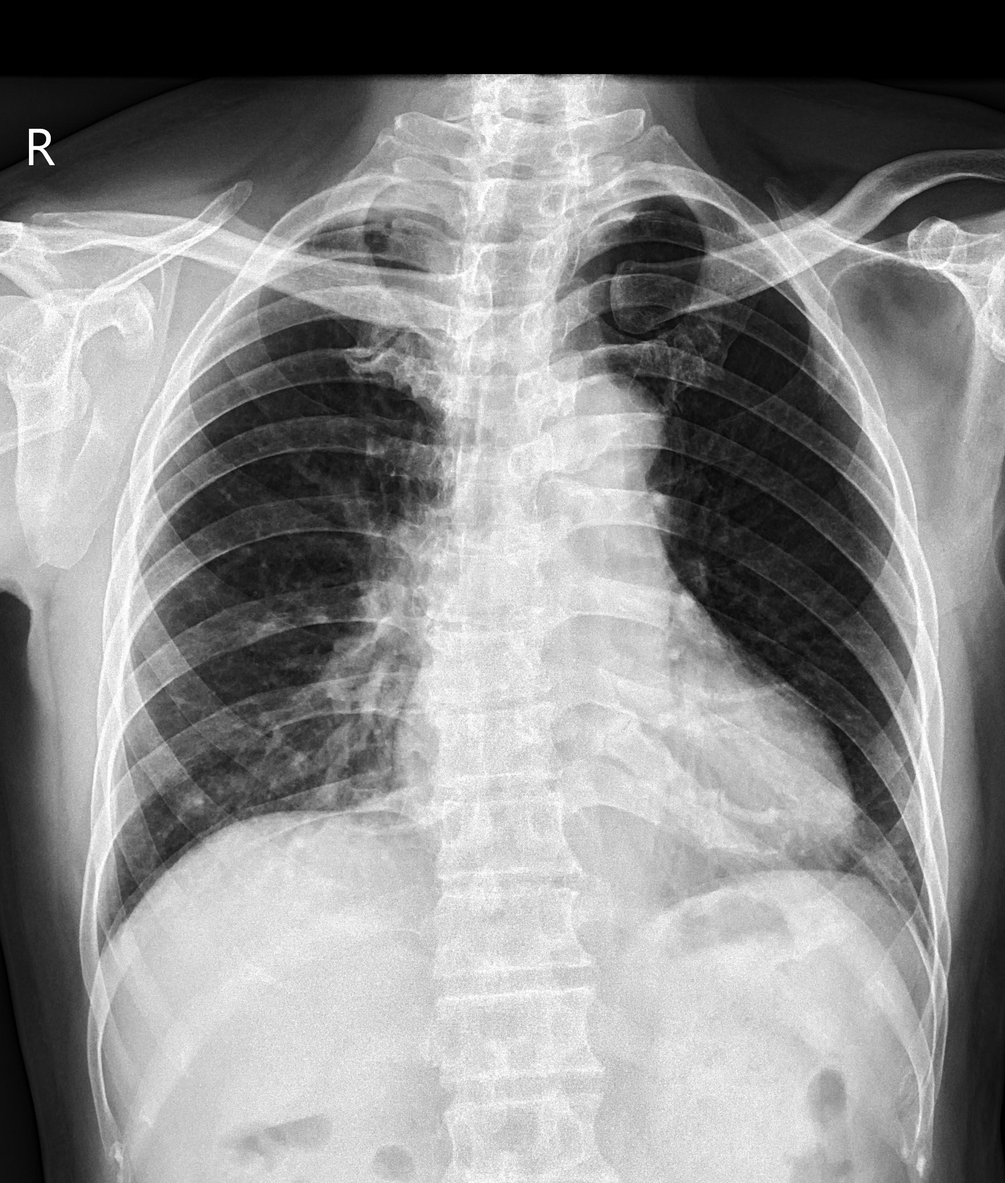Aortic enlargement: (526, 375, 666, 493)
Cardiomegaly: (388, 717, 856, 842)
Pleural thickening: (288, 208, 391, 230)
